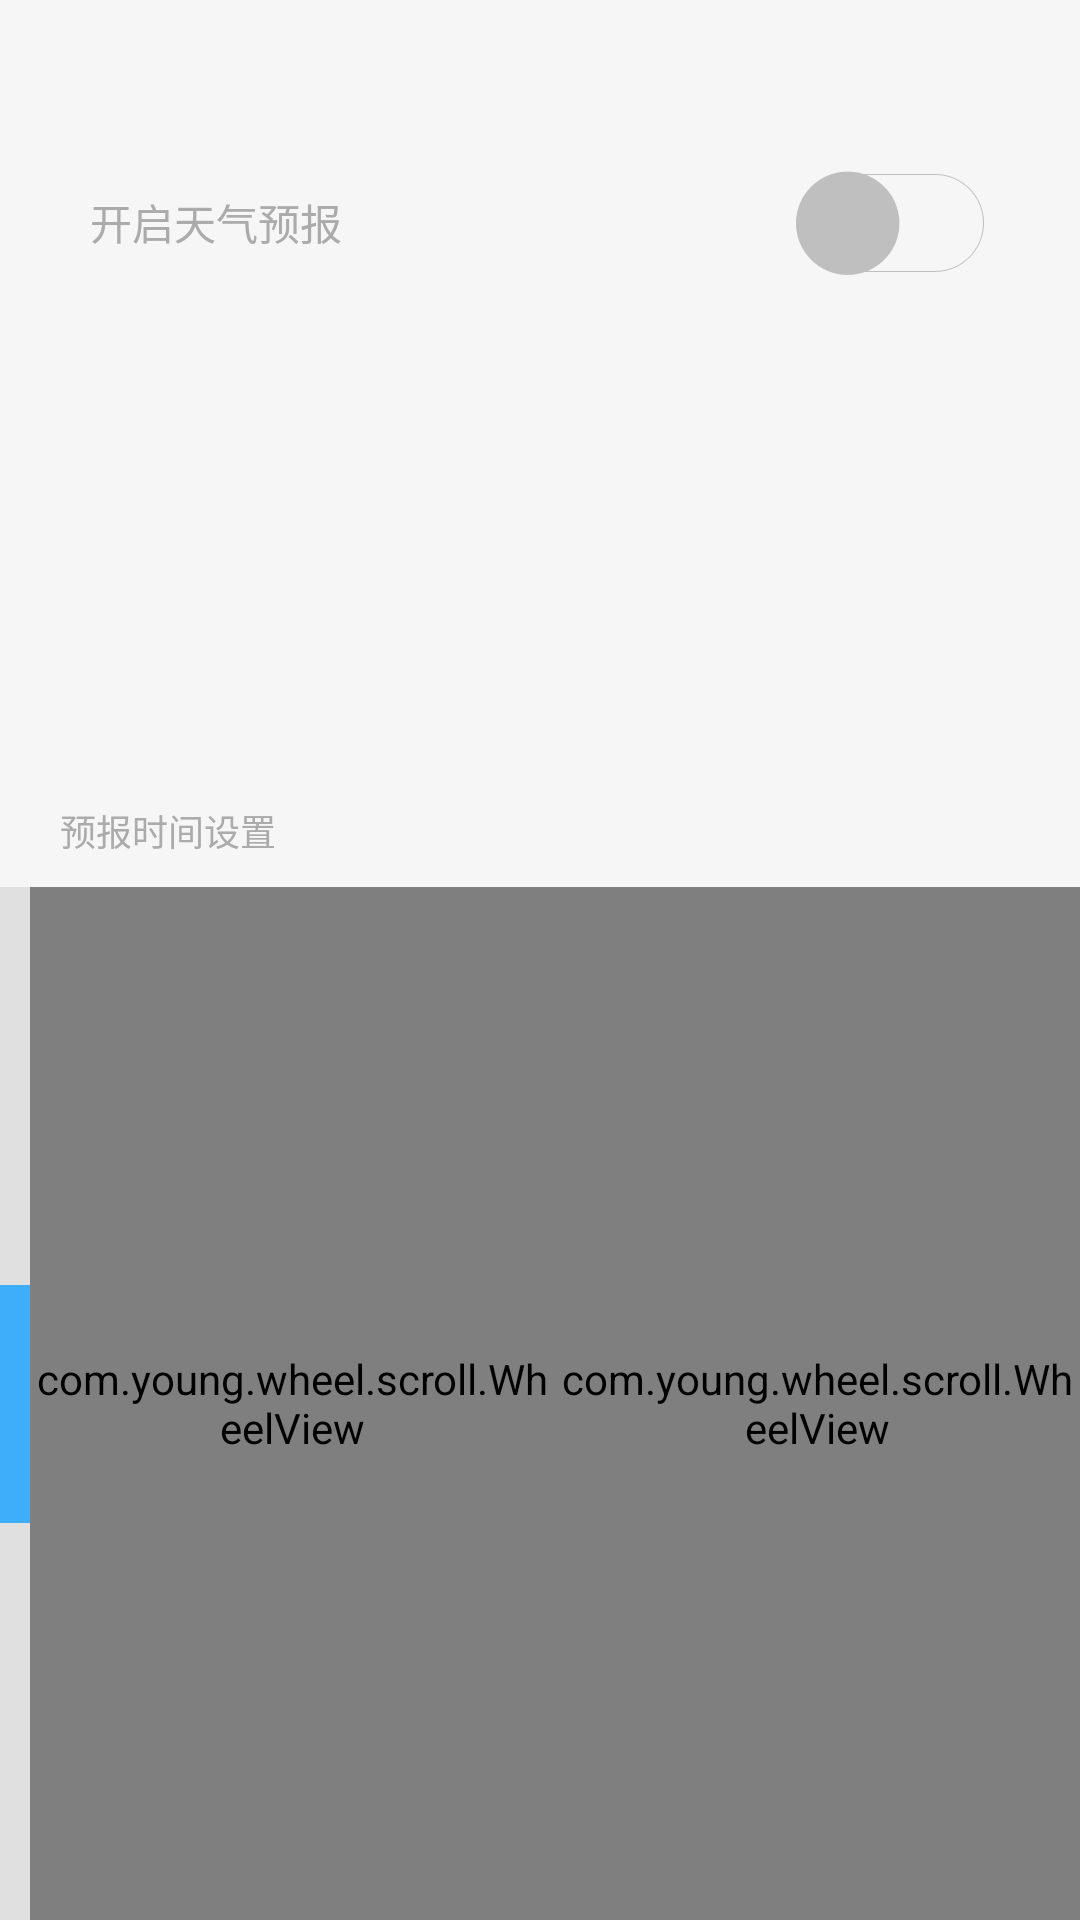

Locate icon controls on the screen. Image size 1080×1920, boxes as {"x1": x1, "y1": y1, "x2": x2, "y2": y2}.
kaiqi: {"x1": 796, "y1": 172, "x2": 984, "y2": 275}
